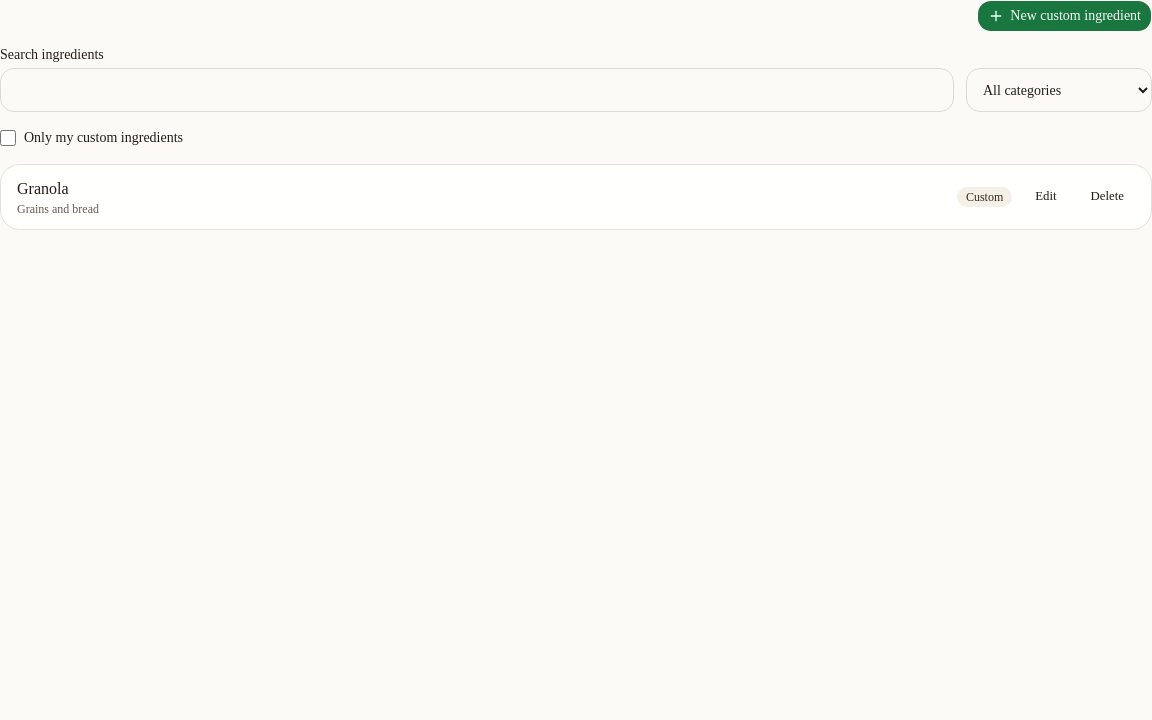
Test case: editing › flags a mistake inline and sends nothing
Click the button with aria-label "Edit Granola" at [1046, 197], box [1024,183,1068,211]
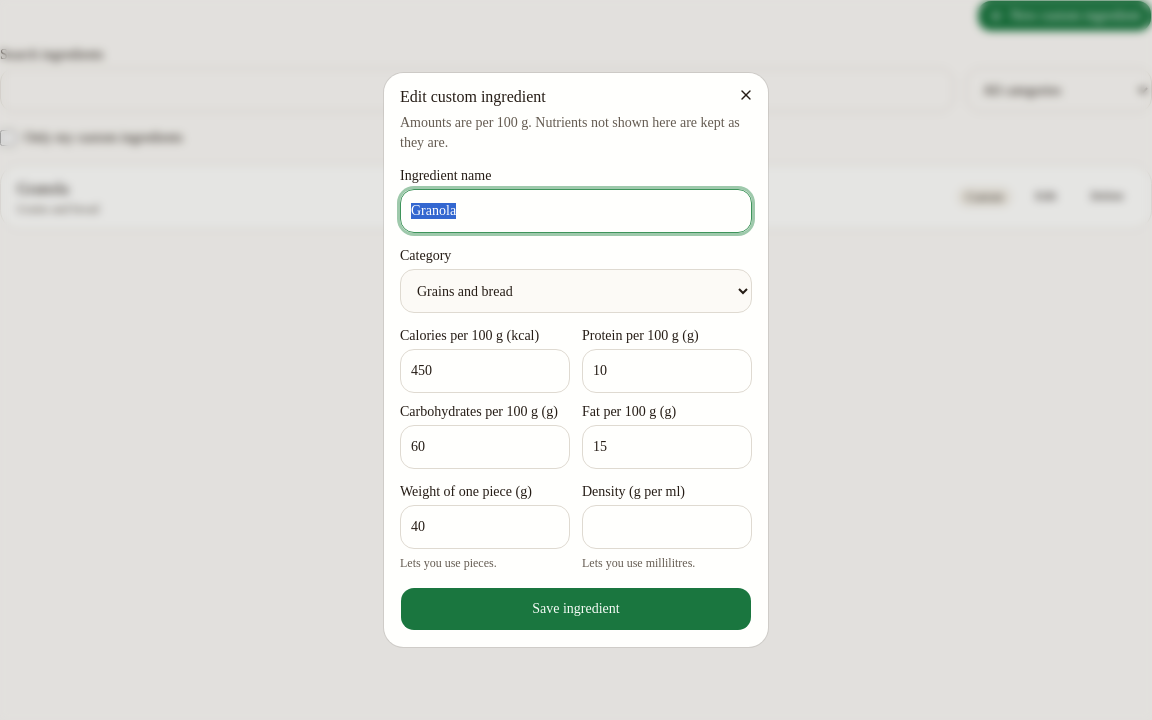
Replace the text in the field labelled "Calories per 100 g (kcal)" with "lots" at [485, 371], box [400,349,570,393]
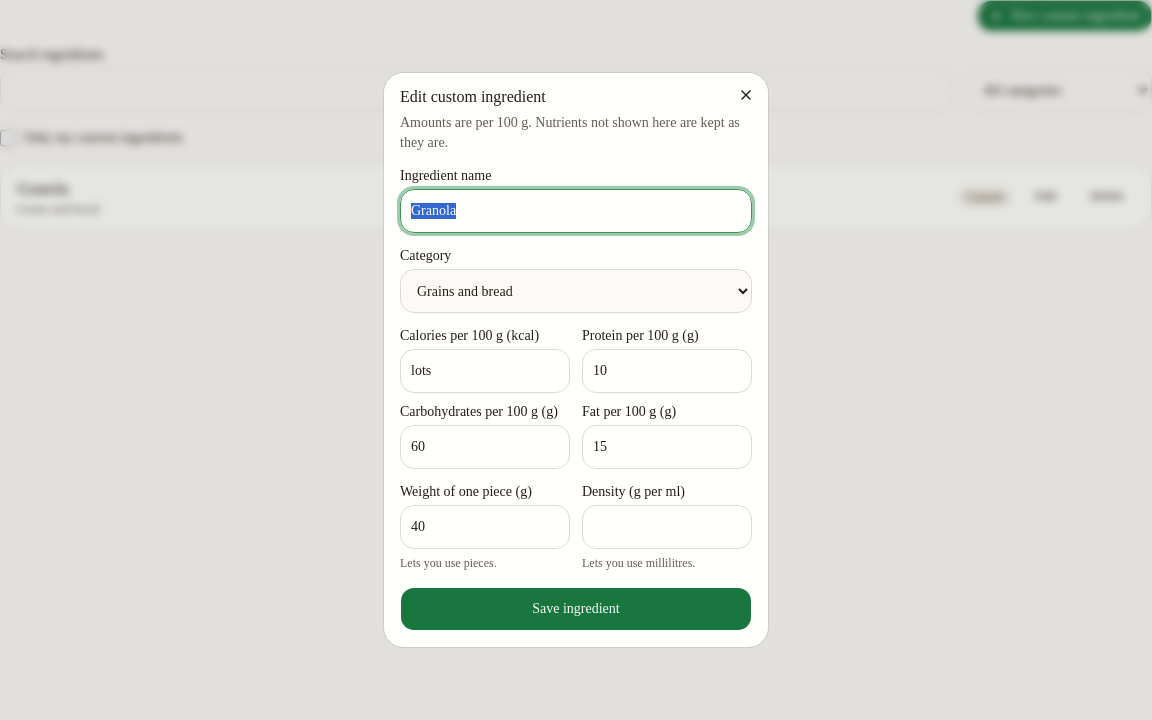
Click the button "Save ingredient" at [576, 609], box [400,587,752,631]
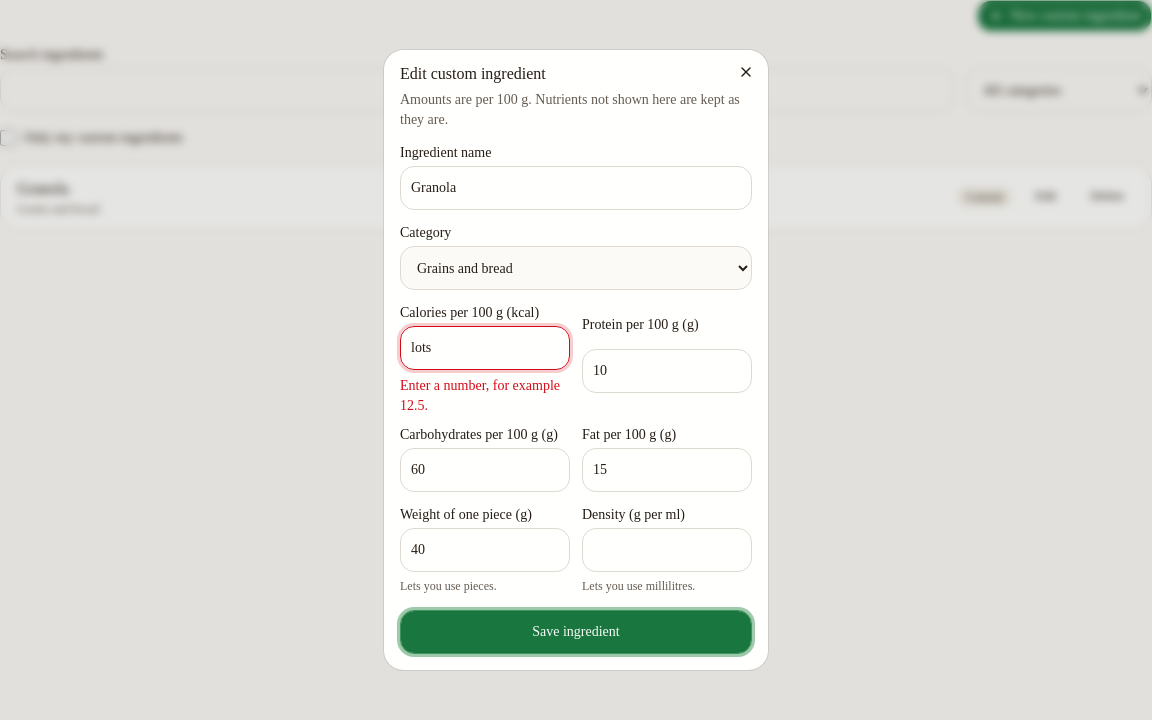
Expected: the text "Enter a number, for example 12.5." is shown, [400,376,570,416]
